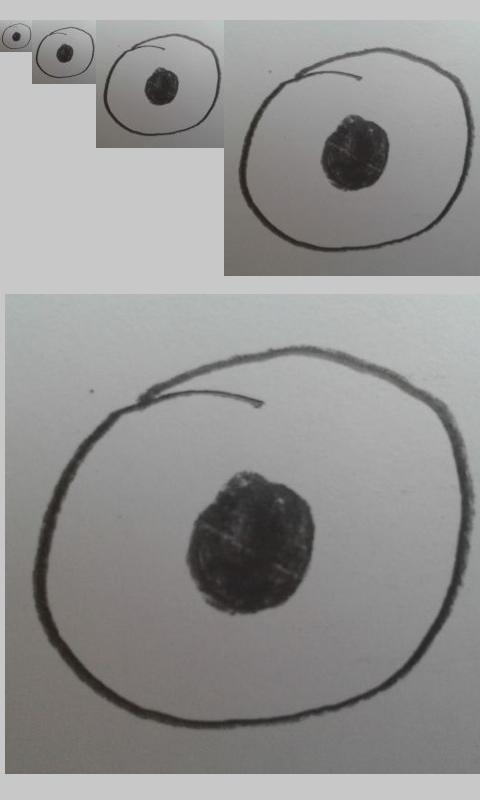radio_button: (34, 344, 477, 733), (236, 45, 475, 254), (103, 33, 222, 137), (35, 26, 95, 79), (1, 22, 32, 50)
